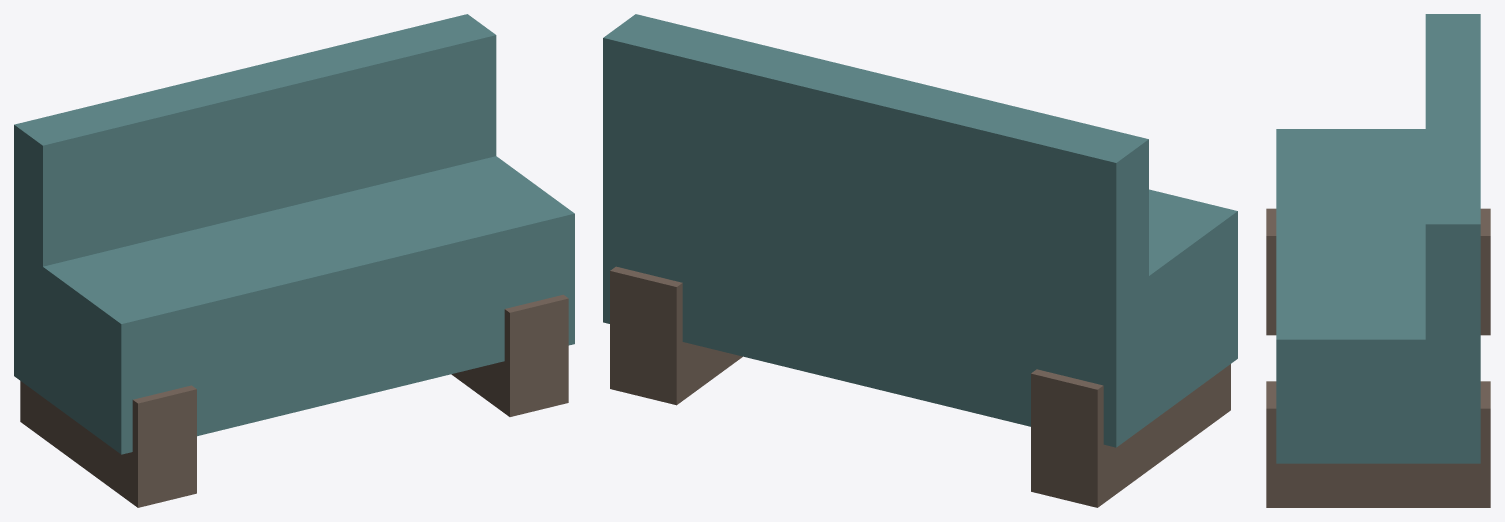
Rendered from sofa_two_seat.glb.
The picture shows the model from 3 angles, left to right: view 1: azimuth 30°, elevation 25°; view 2: azimuth 150°, elevation 25°; view 3: azimuth 270°, elevation 25°; orthographic projection. The views are drawn at different scales.
Parts seen in each view (by area): view 1: sofa_two_seat; view 2: sofa_two_seat; view 3: sofa_two_seat.
Boxes of the visible parts, x1,y1,x2,y2 form: sofa_two_seat: [14, 14, 574, 507]; sofa_two_seat: [603, 14, 1237, 507]; sofa_two_seat: [1266, 14, 1490, 507].
Bounding box in the file's own units: 2 × 1.28 × 0.9.
